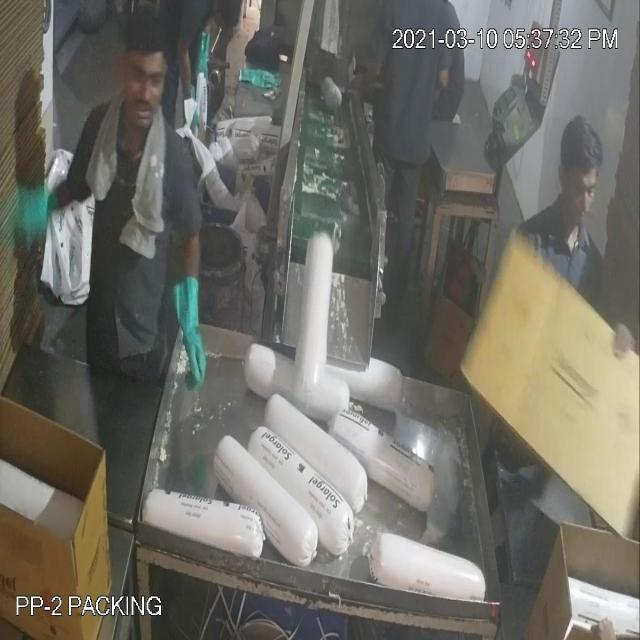gloves: (168, 258, 216, 415)
